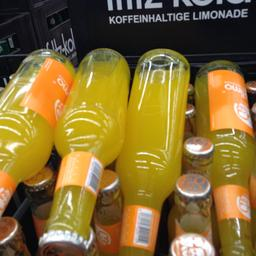soda: (39, 44, 129, 254), (116, 46, 190, 255), (1, 47, 71, 225), (192, 58, 254, 255)
